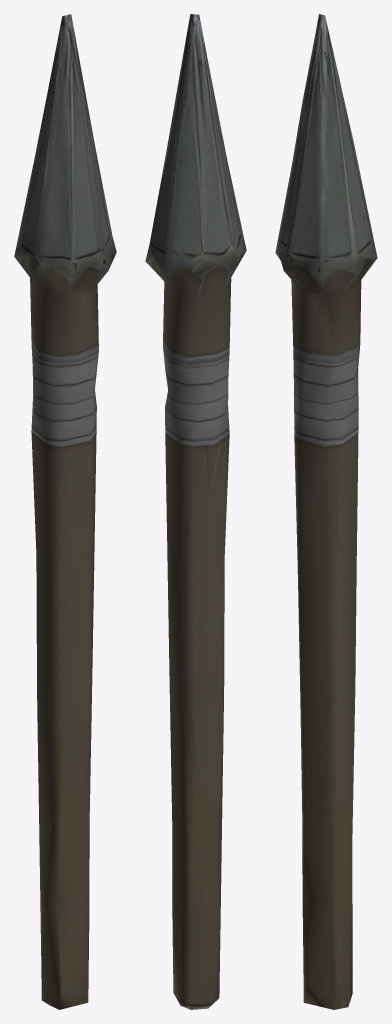
Rendered from TripoModel.glb.
3 renders of one model, left to right at view 1: azimuth 30°, elevation 25°; view 2: azimuth 210°, elevation 25°; view 3: azimuth 330°, elevation 25°, orthographic.
Visible parts, largest first — view 1: tripo_node_a6cf259a-3d69-42f5-ad99-c2f81dc3c643; view 2: tripo_node_a6cf259a-3d69-42f5-ad99-c2f81dc3c643; view 3: tripo_node_a6cf259a-3d69-42f5-ad99-c2f81dc3c643.
Part boxes in pixels (box(x1,y1,x2,y2)): tripo_node_a6cf259a-3d69-42f5-ad99-c2f81dc3c643: box(14, 14, 116, 1009); tripo_node_a6cf259a-3d69-42f5-ad99-c2f81dc3c643: box(145, 14, 246, 1009); tripo_node_a6cf259a-3d69-42f5-ad99-c2f81dc3c643: box(275, 14, 377, 1009).
Bounding box in the file's own units: 0.0888 × 1 × 0.0878.
Materials: 1 (1 with a texture image).
